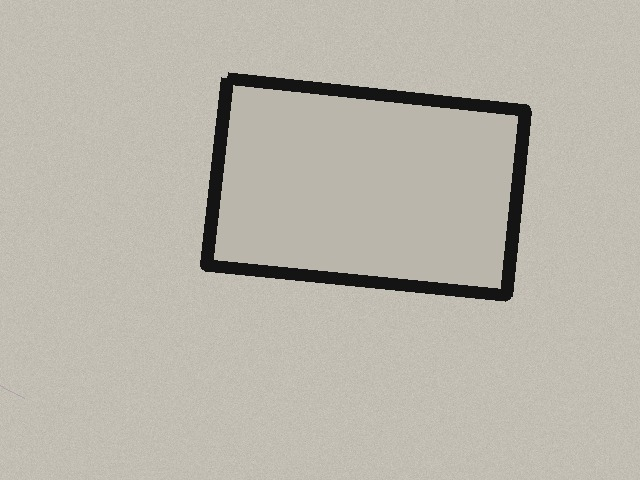parking_area: (206, 78, 525, 295)
